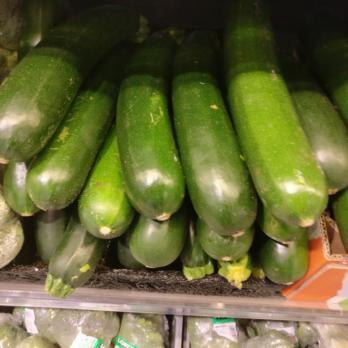Cucumber: (1, 0, 348, 279)
